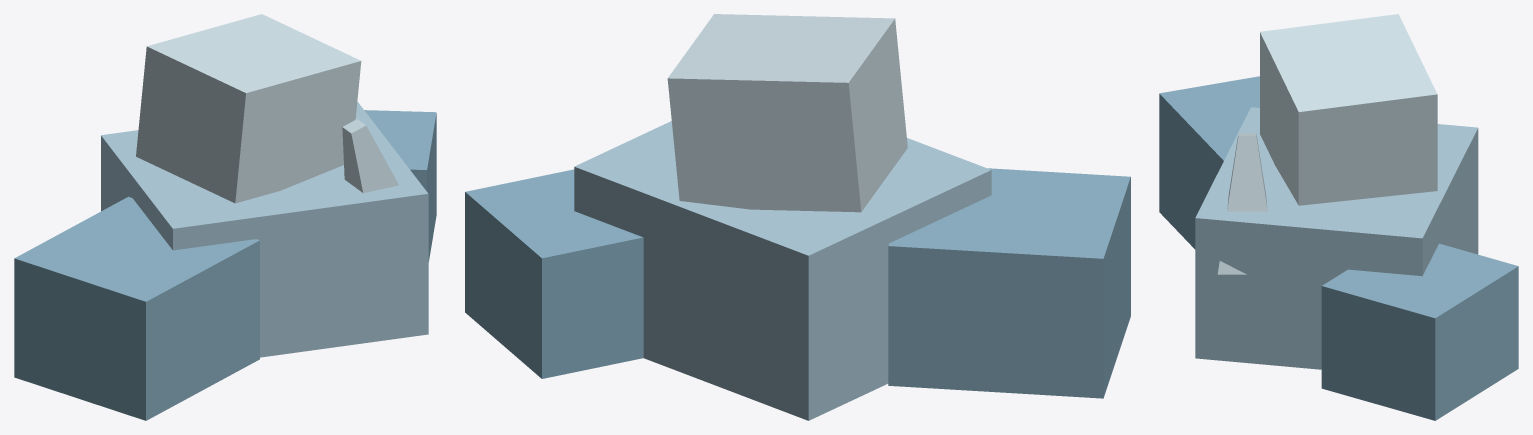
File: ice_blocks.glb
3 views of the same model, side by side, from view 1: azimuth 30°, elevation 25°; view 2: azimuth 150°, elevation 25°; view 3: azimuth 270°, elevation 25° (orthographic). The views are drawn at different scales.
Visible parts, largest first — view 1: ice_blocks; view 2: ice_blocks; view 3: ice_blocks.
Boxes of the visible parts, x1,y1,x2,y2 form: ice_blocks: (14, 14, 436, 420); ice_blocks: (465, 14, 1130, 420); ice_blocks: (1159, 14, 1518, 420).
Size of the model in its own units: 1.87 by 0.9513 by 1.21.
1 material, 1 textured.
